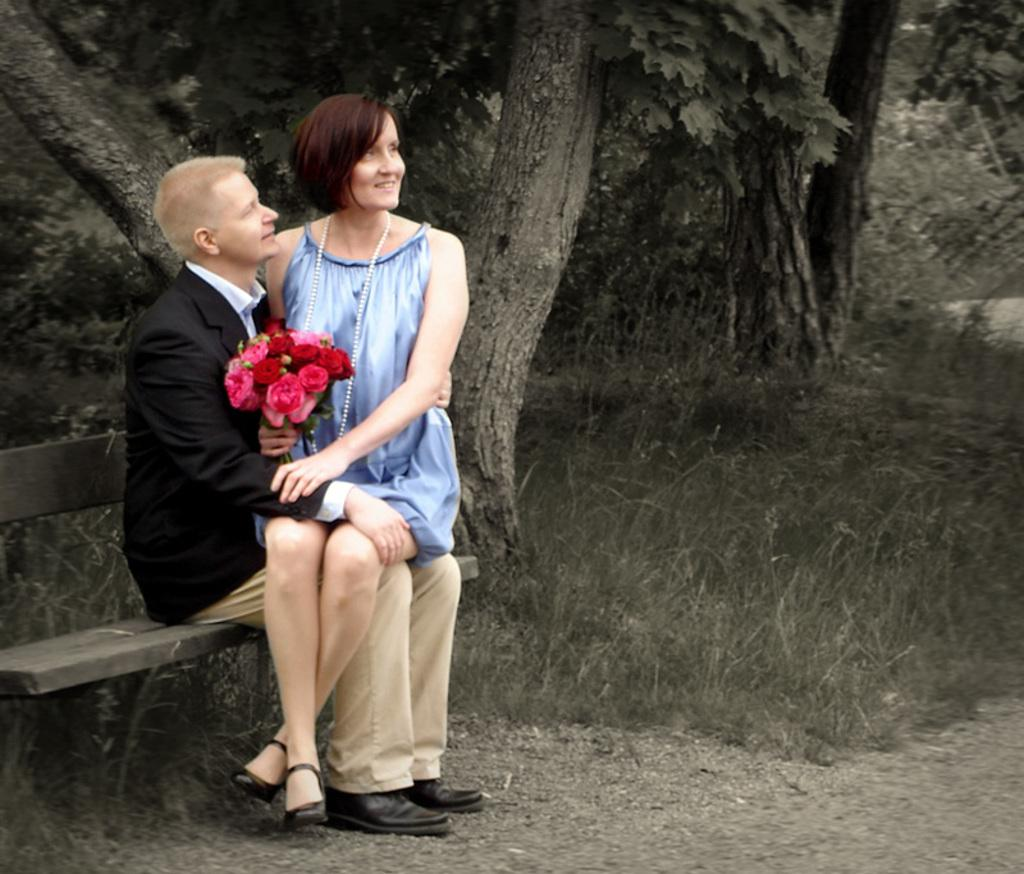Sem Máscara: (206, 167, 280, 256), (346, 110, 405, 210)
